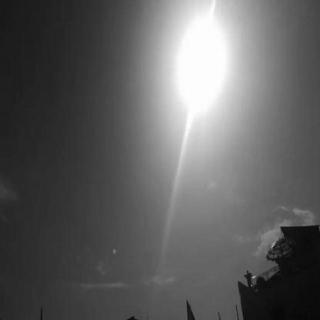other: (164, 8, 242, 136)
